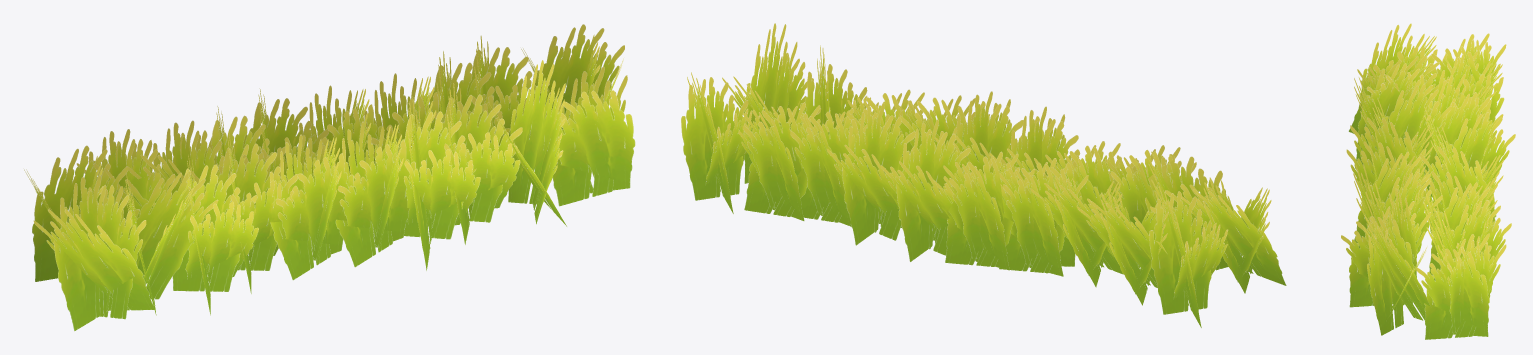
File: SM_Rice_02.fbx
3 renders of one model, left to right at view 1: azimuth 30°, elevation 25°; view 2: azimuth 150°, elevation 25°; view 3: azimuth 270°, elevation 25°, orthographic. The views are drawn at different scales.
Visible parts, largest first — view 1: SM_Rice_02_LOD0; view 2: SM_Rice_02_LOD0; view 3: SM_Rice_02_LOD0.
Boxes of the visible parts, x1,y1,x2,y2 form: SM_Rice_02_LOD0: (24,24,635,331); SM_Rice_02_LOD0: (681,23,1286,327); SM_Rice_02_LOD0: (1341,23,1515,339).
Size of what is drawn, in the model's own units: 2.62 by 0.6837 by 0.8283.
